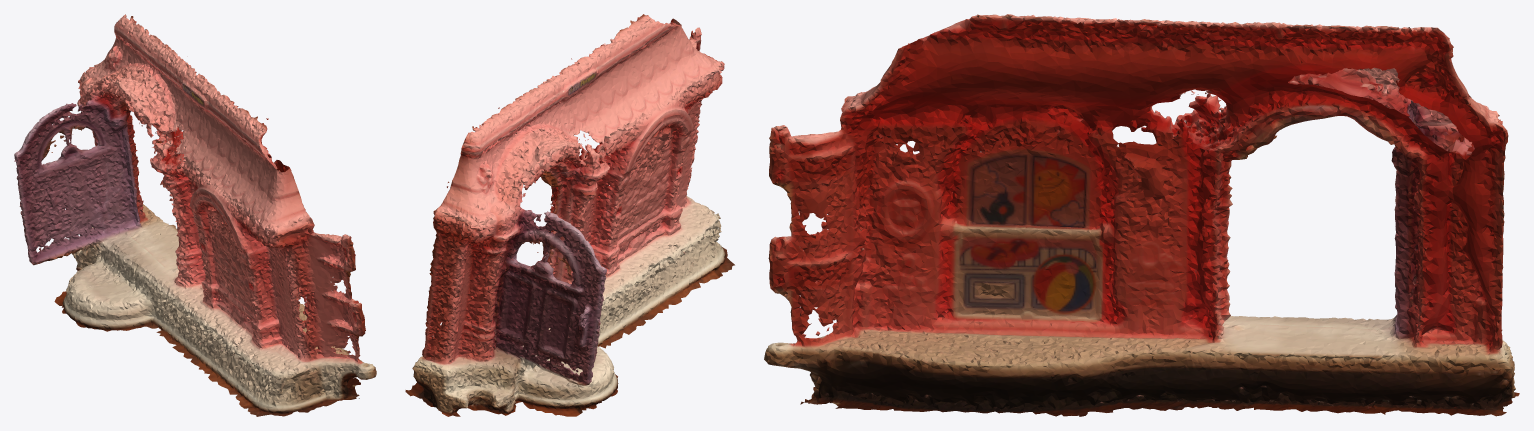
The model's file is pink_house_door_89k_faces.fbx.
3 renders of one model, left to right at view 1: azimuth 30°, elevation 25°; view 2: azimuth 150°, elevation 25°; view 3: azimuth 270°, elevation 25°, orthographic. The views are drawn at different scales.
Parts seen in each view (by area): view 1: Model; view 2: Model; view 3: Model.
Boxes of the visible parts, x1,y1,x2,y2 form: Model: [14, 14, 376, 416]; Model: [405, 14, 734, 416]; Model: [764, 14, 1519, 416].
Bounding box in the file's own units: 1.65 × 2.39 × 4.15.
